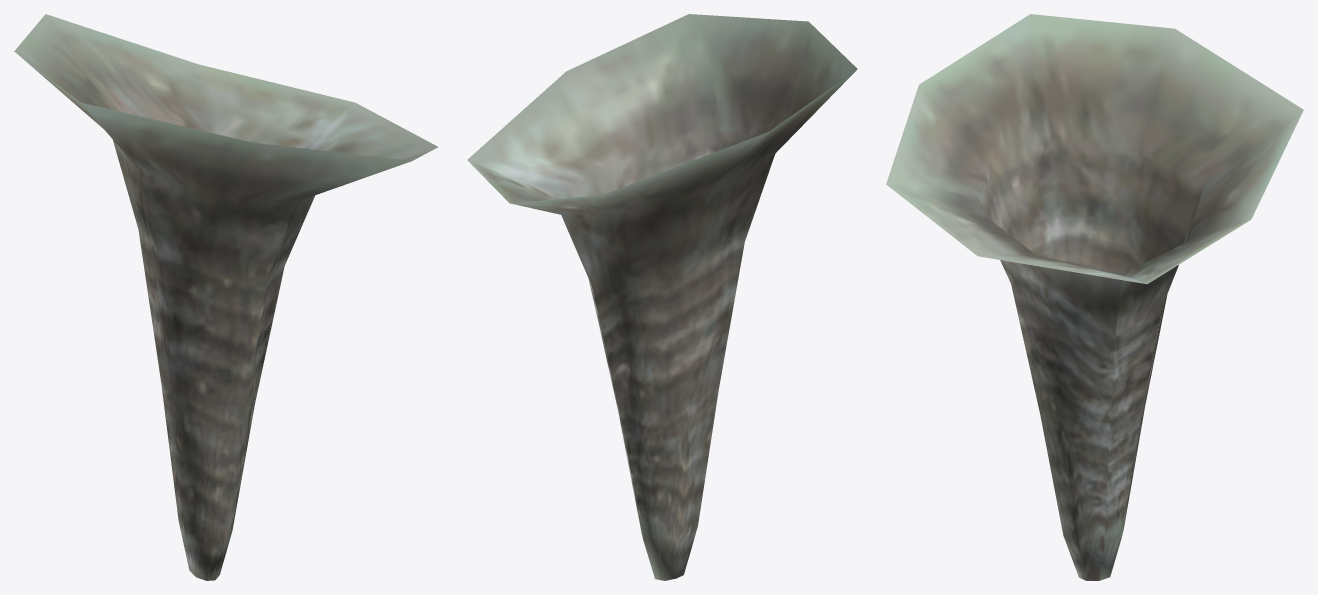
The model's file is TROLLHOLE02_PS-SECRETSTALAG03.obj.
3 renders of one model, left to right at view 1: azimuth 30°, elevation 25°; view 2: azimuth 150°, elevation 25°; view 3: azimuth 270°, elevation 25°, orthographic. The views are drawn at different scales.
Visible parts, largest first — view 1: -SecretStalag03; view 2: -SecretStalag03; view 3: -SecretStalag03.
Boxes of the visible parts, <box> form: -SecretStalag03: <box>14,14,437,580</box>; -SecretStalag03: <box>467,14,857,580</box>; -SecretStalag03: <box>886,14,1303,580</box>.
Bounding box in the file's own units: 210 × 318 × 244.
